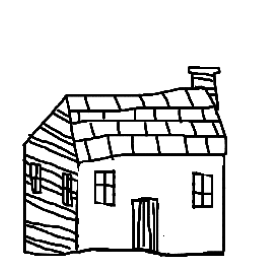bottom_placed_house: (2, 1, 260, 260)
chimney: (185, 60, 229, 114)
closed_window: (185, 166, 218, 216), (88, 167, 120, 211), (28, 159, 47, 204)
door: (127, 184, 175, 257)
roof: (15, 86, 247, 160)
wall: (72, 139, 234, 260)
